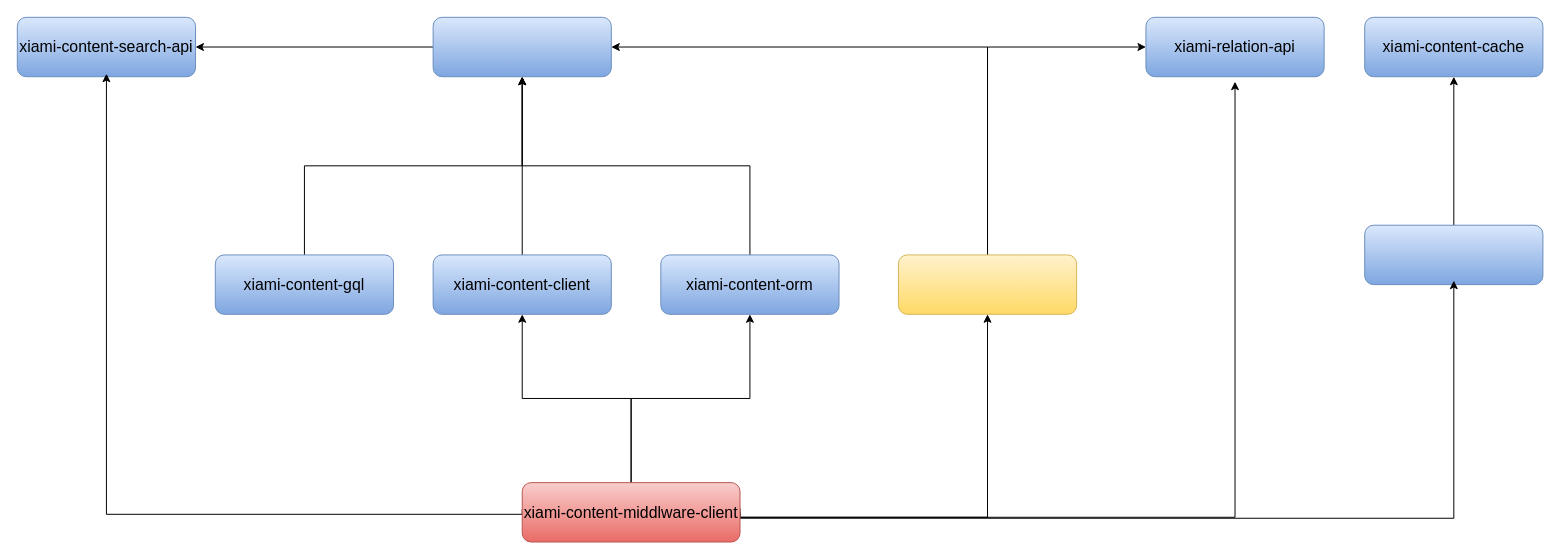
Image size: 1560x559. Some labels were removed from this diagram. The shapes that lost their labels are listed below. From the top down, each one's box as (x1, y1, x2, y2) in pixels, then its label:
(432, 16, 611, 77): xiami-content-api
(1364, 224, 1543, 285): xiami-content-middleware-cache
(897, 254, 1077, 314): xiami-content-middlware-api
